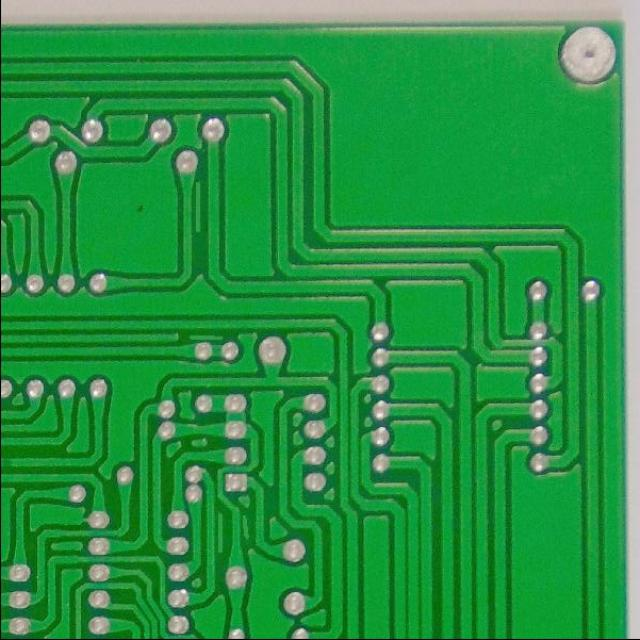Spurious_Cooper: (190, 177, 207, 236), (214, 510, 228, 556), (186, 330, 227, 342), (241, 512, 251, 541)
